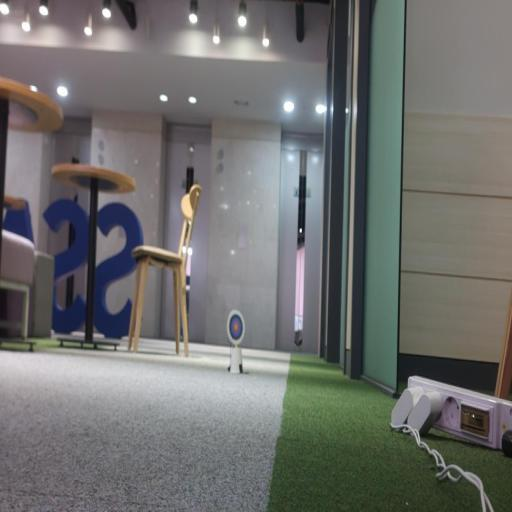target: (227, 310, 244, 343)
